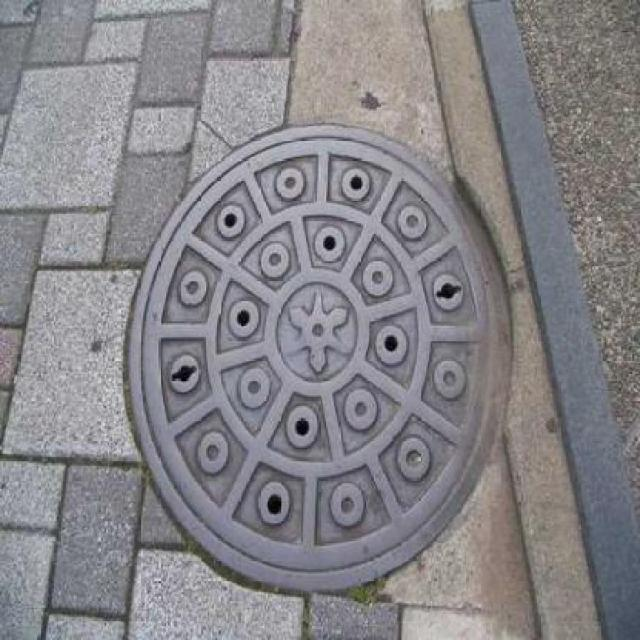Manhole: (110, 113, 526, 602)
